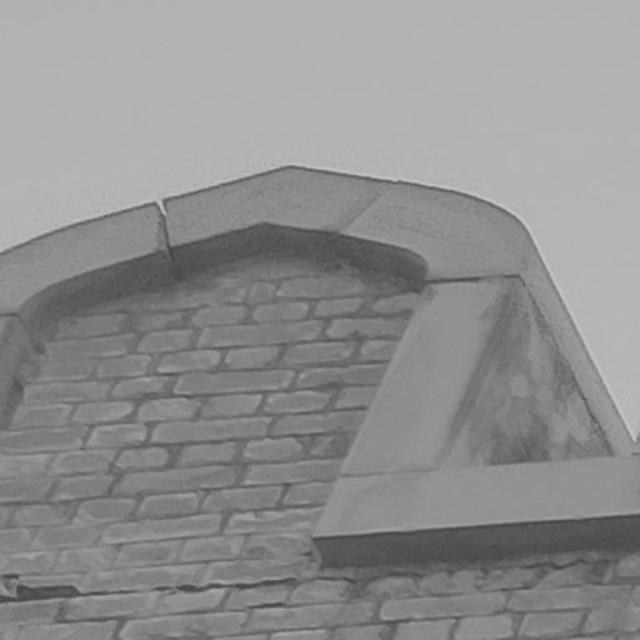crack: (1, 556, 617, 603)
